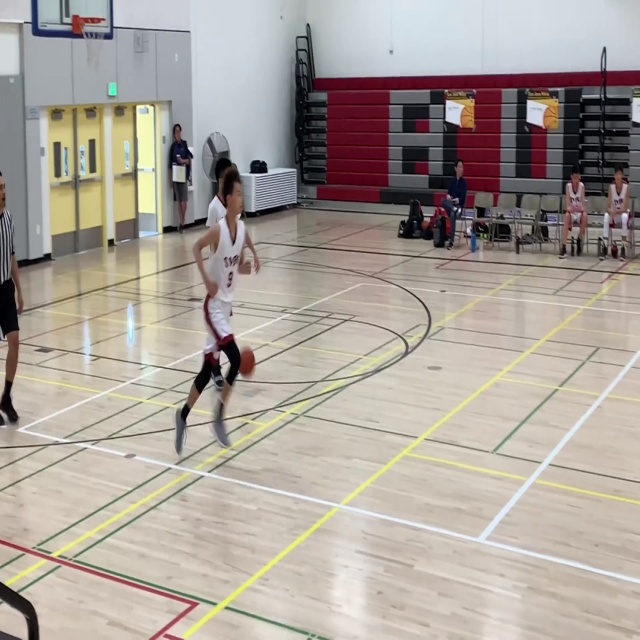Basketball: (238, 346, 255, 375)
